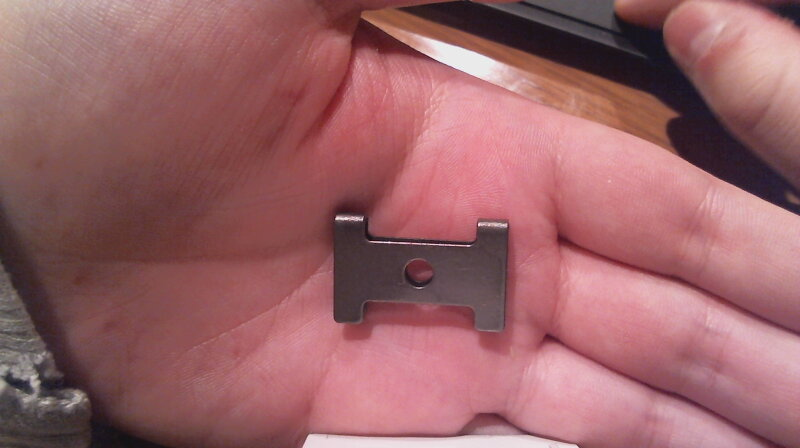O002: (329, 209, 518, 336)
